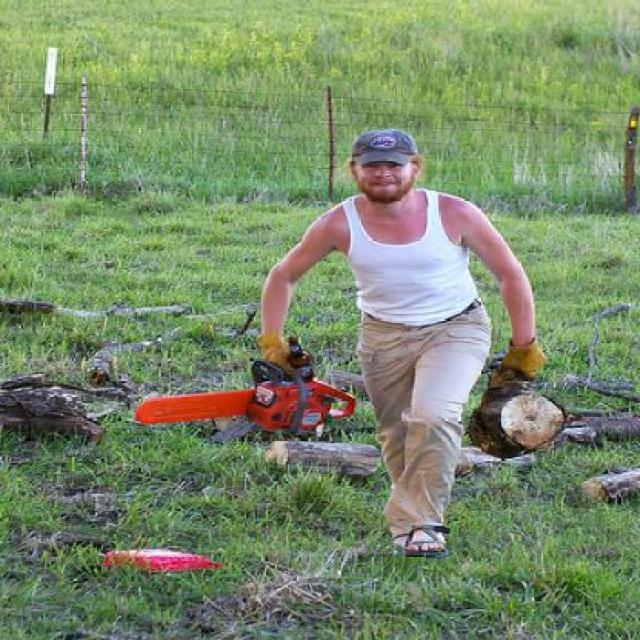Chainsaw: (131, 337, 360, 445)
